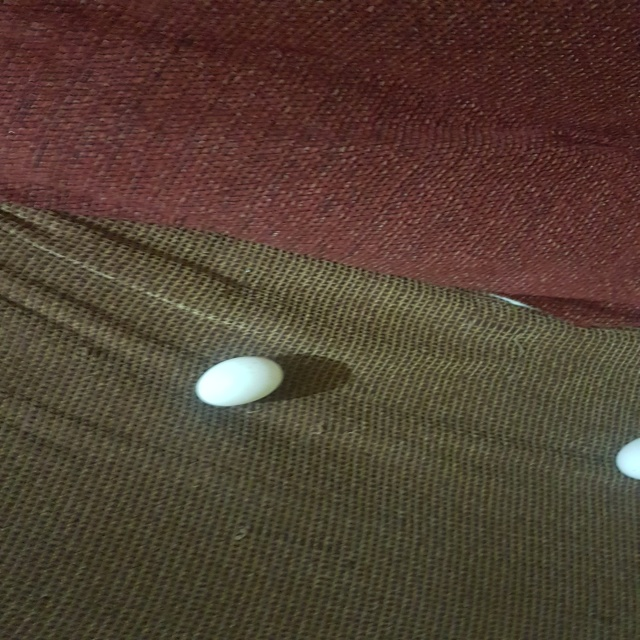eggs: (195, 353, 286, 406)
